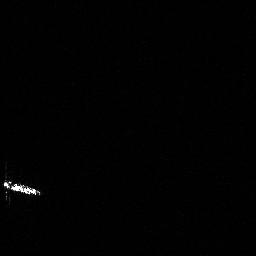ship: (2, 178, 42, 197)
